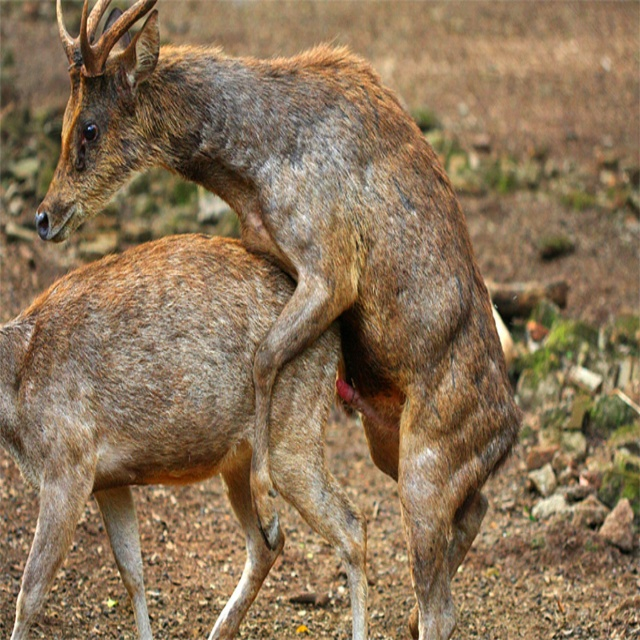Deer: (35, 0, 525, 639), (0, 233, 368, 640)
